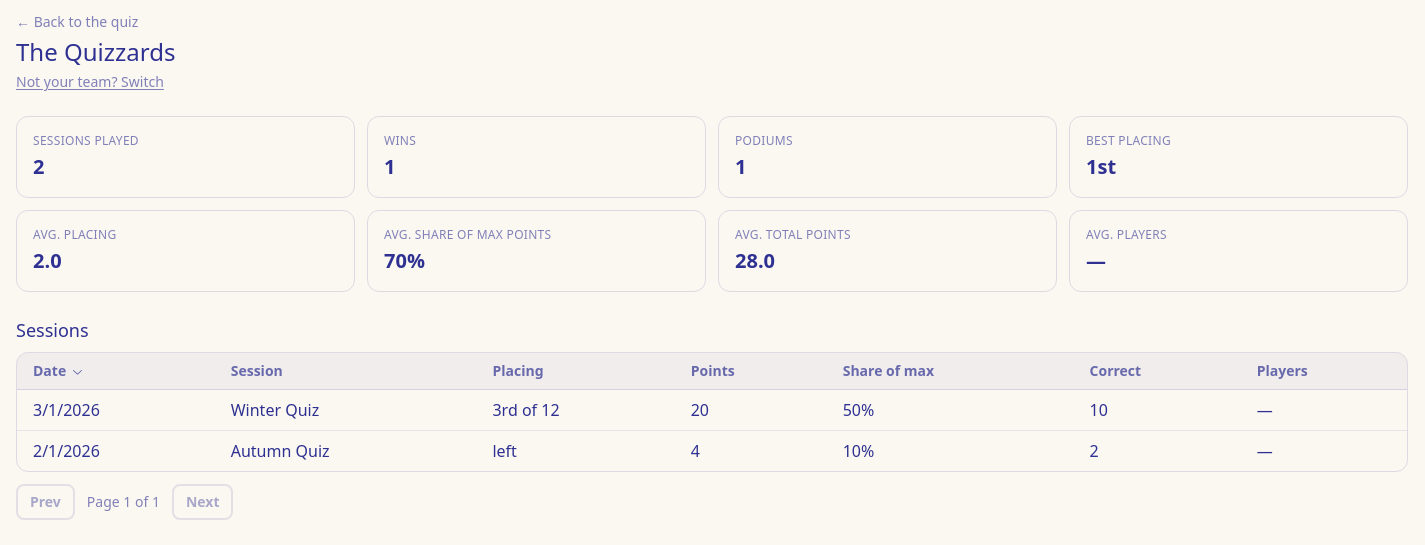
TeamPagePanel › forgets the saved team and shows the form again on Switch
The width and height of the screenshot is (1425, 545).
Click the button "Not your team? Switch": point(90, 82) [16, 72, 164, 92]
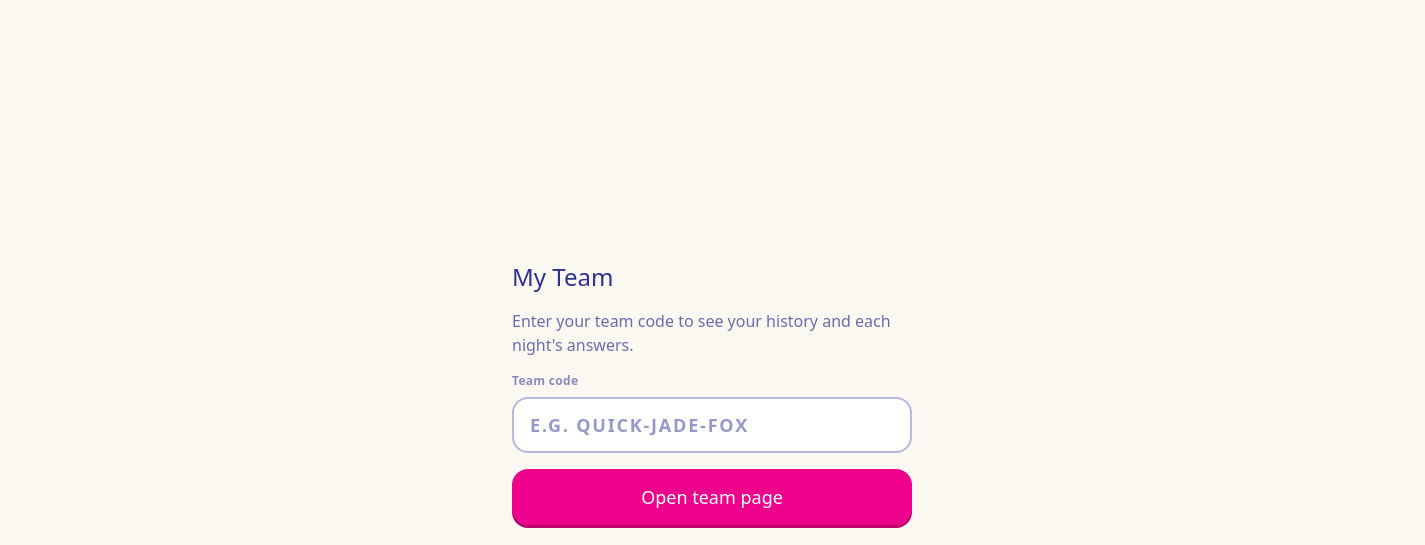
Now the field labelled "Team code" is shown, box [512, 397, 912, 453]
